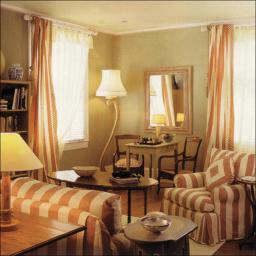Ventana: (34, 30, 88, 144), (218, 29, 252, 143)
